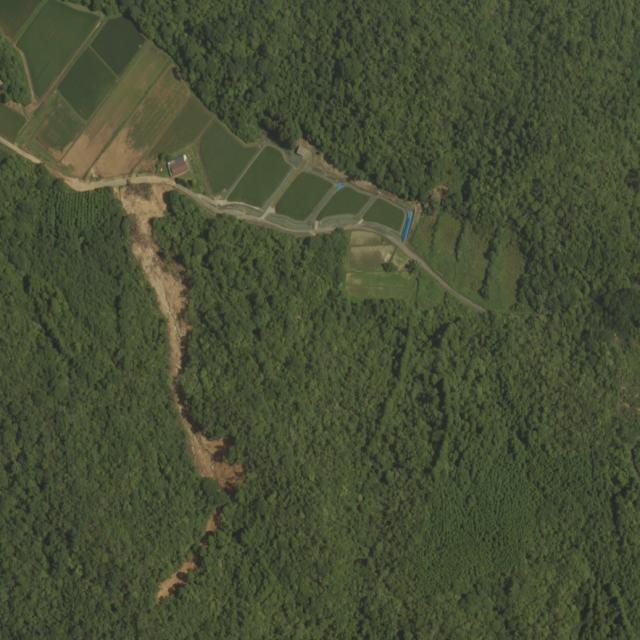landslide: (115, 179, 244, 493), (156, 557, 197, 603)
